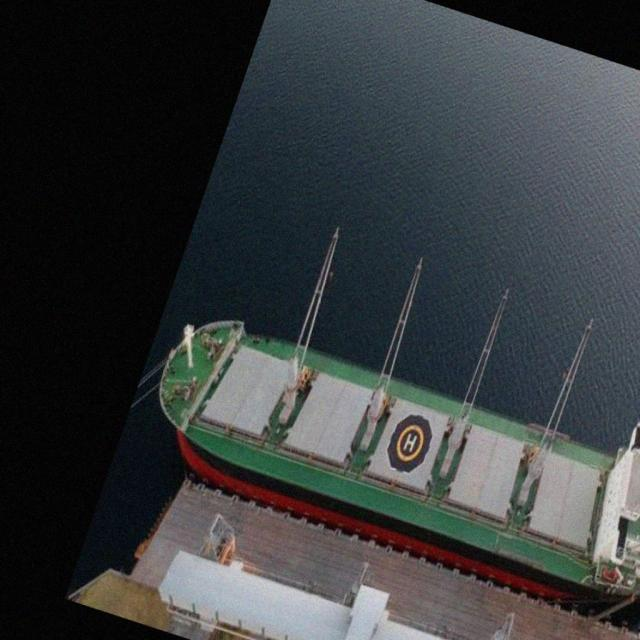helipad: (393, 422, 424, 460)
